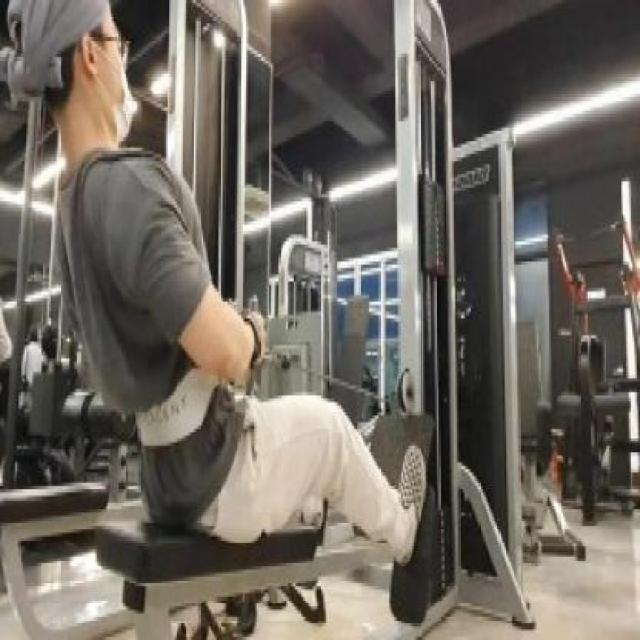Seated Cable Rows: (8, 0, 535, 640)
